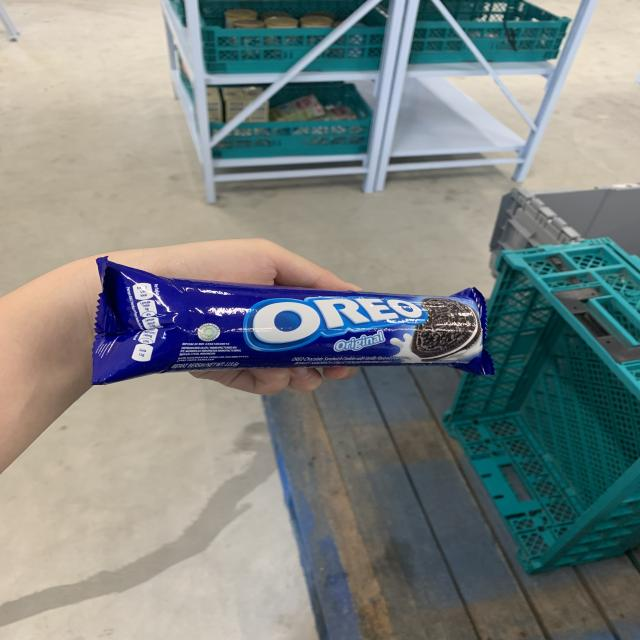object_name: (102, 279, 472, 368)
